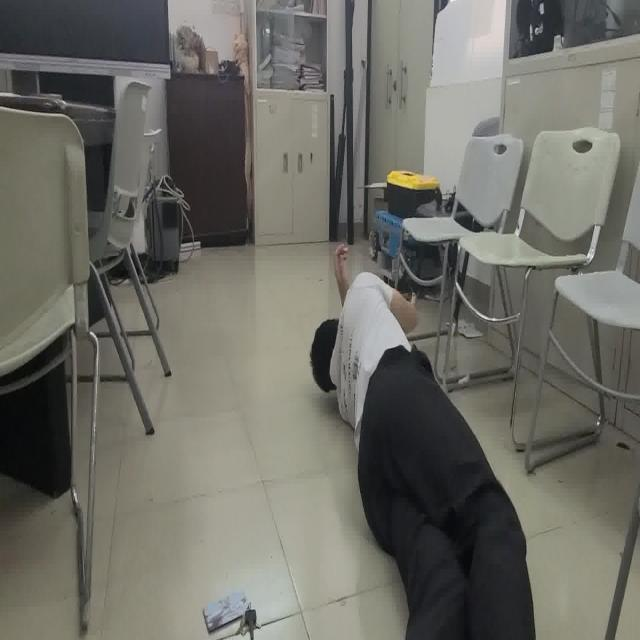Fall-Detected: (310, 246, 539, 640)
